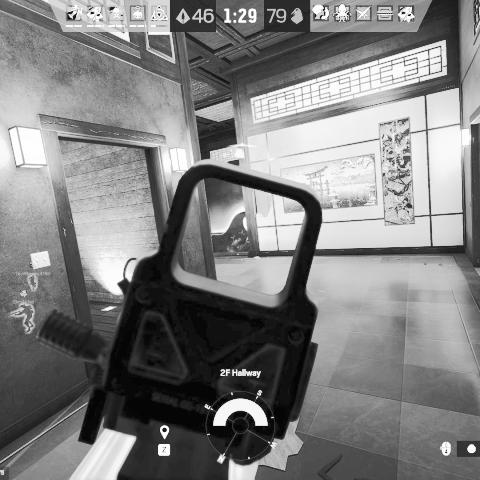Friend_label: (16, 260, 51, 276), (12, 290, 34, 304)
